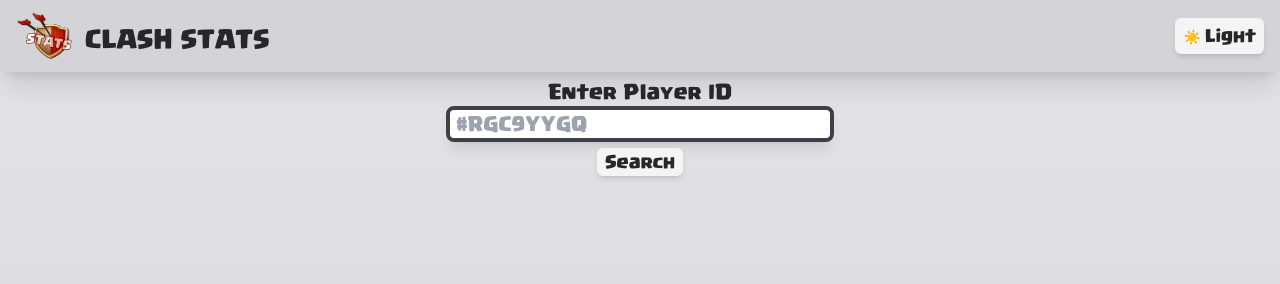
it: Search › should display error instead of user data
In the search field with test id "search-input": (640, 124) [448,108,832,140], type "#12345678"
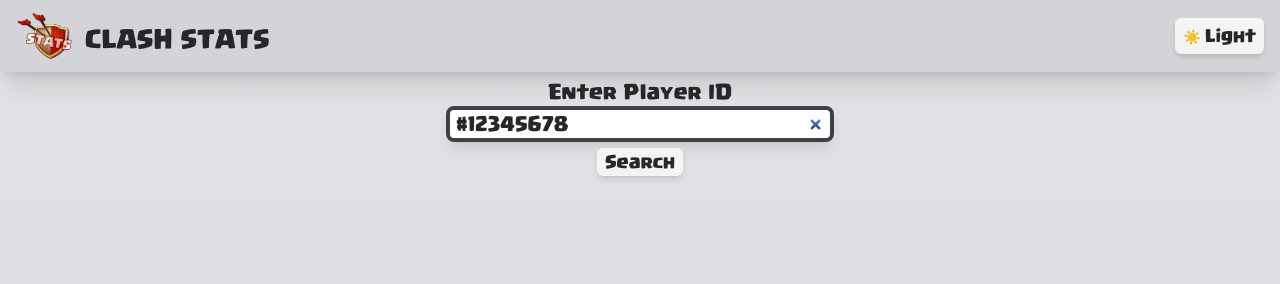
Click the button with test id "search-button": (640, 162) [597,148,683,176]
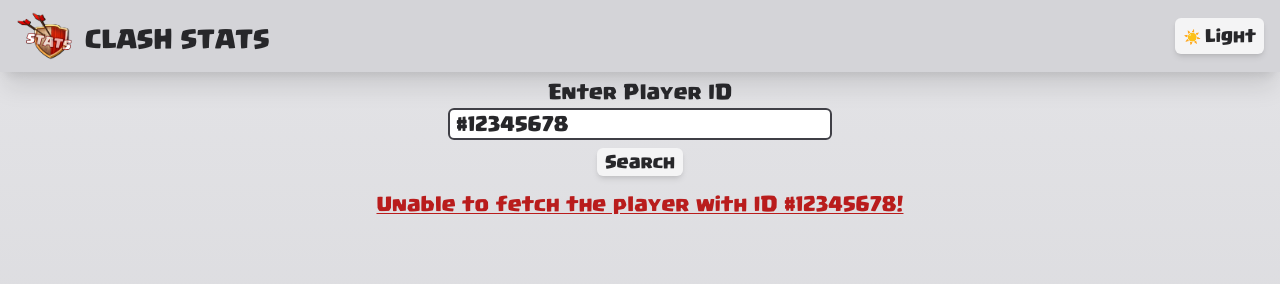
Expected: the message with test id "search-error" reads "Unable to fetch the player with ID #12345678!", [377,192,904,216]
